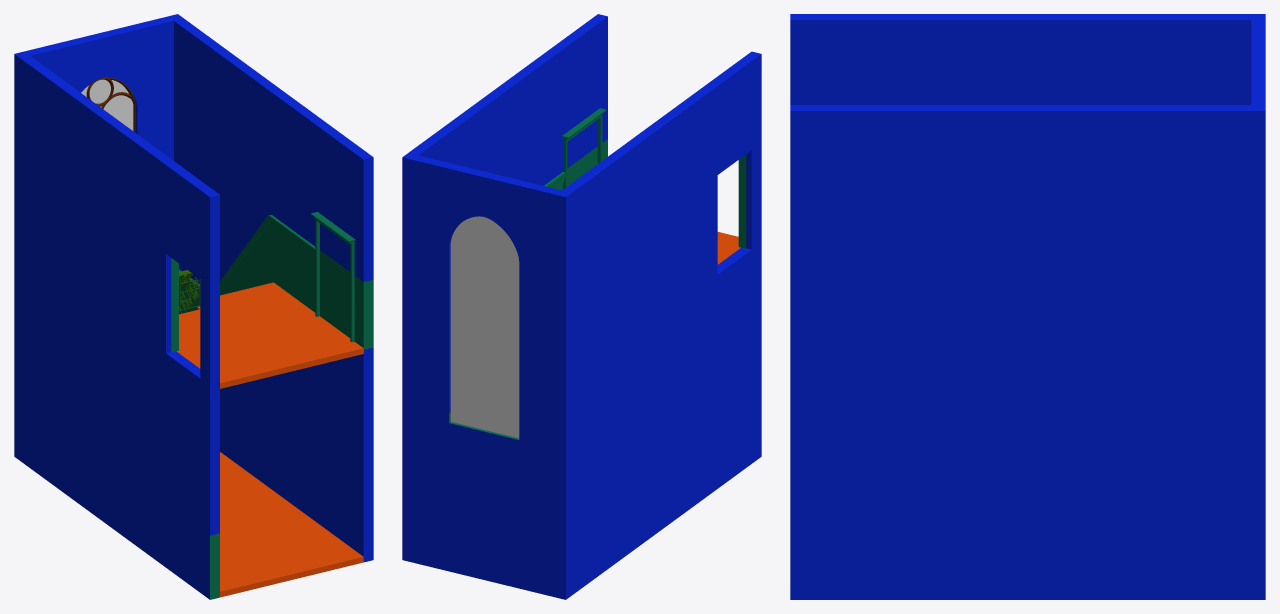
File: StairsMesh.fbx
3 renders of one model, left to right at view 1: azimuth 30°, elevation 25°; view 2: azimuth 150°, elevation 25°; view 3: azimuth 270°, elevation 25°, orthographic. The views are drawn at different scales.
Parts seen in each view (by area): view 1: Walls, Walls.001, Cube, Cube.004, Cube.005, Cube.001, Fense, BézierCurve; view 2: Walls, Cube.005, Walls.001, Cube.004; view 3: Walls.
Boxes of the visible parts, left/top/right/bottom form: Walls: left=14, top=14, right=373, bottom=599; Walls.001: left=171, top=212, right=373, bottom=599; Cube: left=220, top=452, right=363, bottom=597; Cube.004: left=176, top=289, right=363, bottom=388; Cube.005: left=81, top=79, right=133, bottom=130; Cube.001: left=197, top=282, right=281, bottom=309; Fense: left=179, top=274, right=200, bottom=313; BézierCurve: left=86, top=77, right=135, bottom=132; Walls: left=402, top=14, right=761, bottom=599; Cube.005: left=450, top=216, right=519, bottom=438; Walls.001: left=449, top=108, right=746, bottom=439; Cube.004: left=717, top=232, right=740, bottom=264; Walls: left=790, top=14, right=1265, bottom=599.
Bounding box in the file's own units: 905 × 2130 × 1877.
